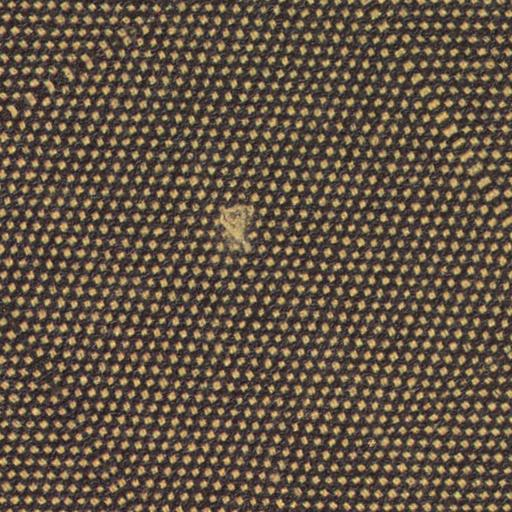knot: (206, 197, 268, 259)
